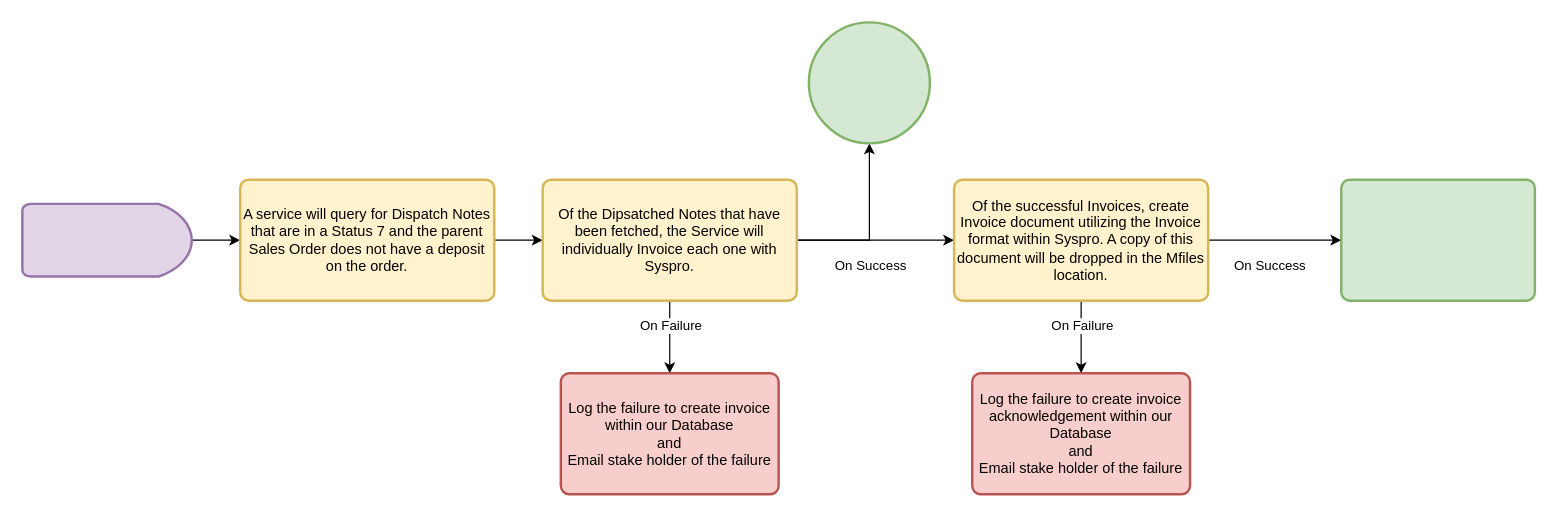
The diagram is 1556 pixels wide and 515 high, and some of its shapes have lost their labels. Here are the shapes that lost their labels. From the top down, the centre of each, then its label:
At [868,82]: "Invoice Available in Syspro".
At [106,239]: "Invoicing Dispatch Notes".
At [1437,239]: "An email will be sent with the Invoice document to the customer.".
